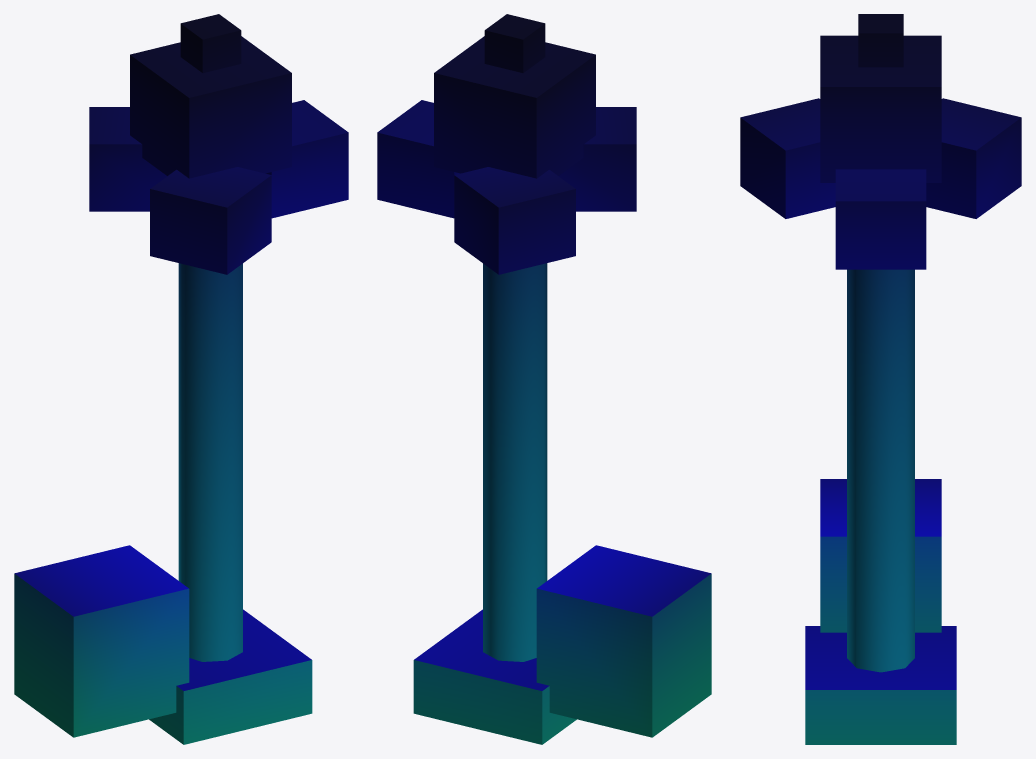
File: perimeteralarm_damaged.glb
3 views of the same model, side by side, from view 1: azimuth 30°, elevation 25°; view 2: azimuth 150°, elevation 25°; view 3: azimuth 270°, elevation 25° (orthographic). The views are drawn at different scales.
Visible parts, largest first — view 1: lod0; view 2: lod0; view 3: lod0.
Part boxes in pixels (bbox=[...]): lod0: bbox=[14, 14, 348, 744]; lod0: bbox=[377, 14, 711, 744]; lod0: bbox=[740, 14, 1021, 744].
Size of what is drawn, in the model's own units: 4.4 by 10.05 by 3.72.
